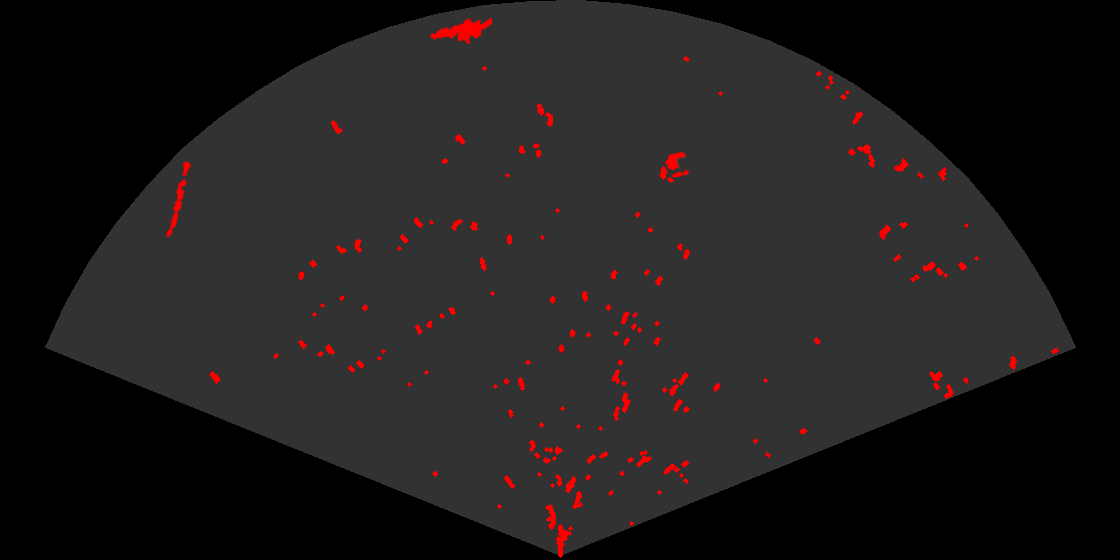ball: (664, 150, 691, 179)
chain: (165, 158, 193, 240)
frogman: (428, 16, 492, 46)
